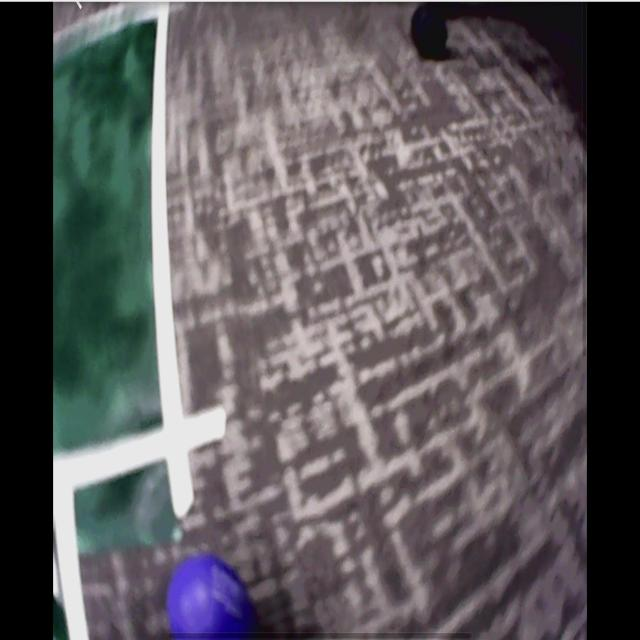ball: (170, 558, 252, 640)
